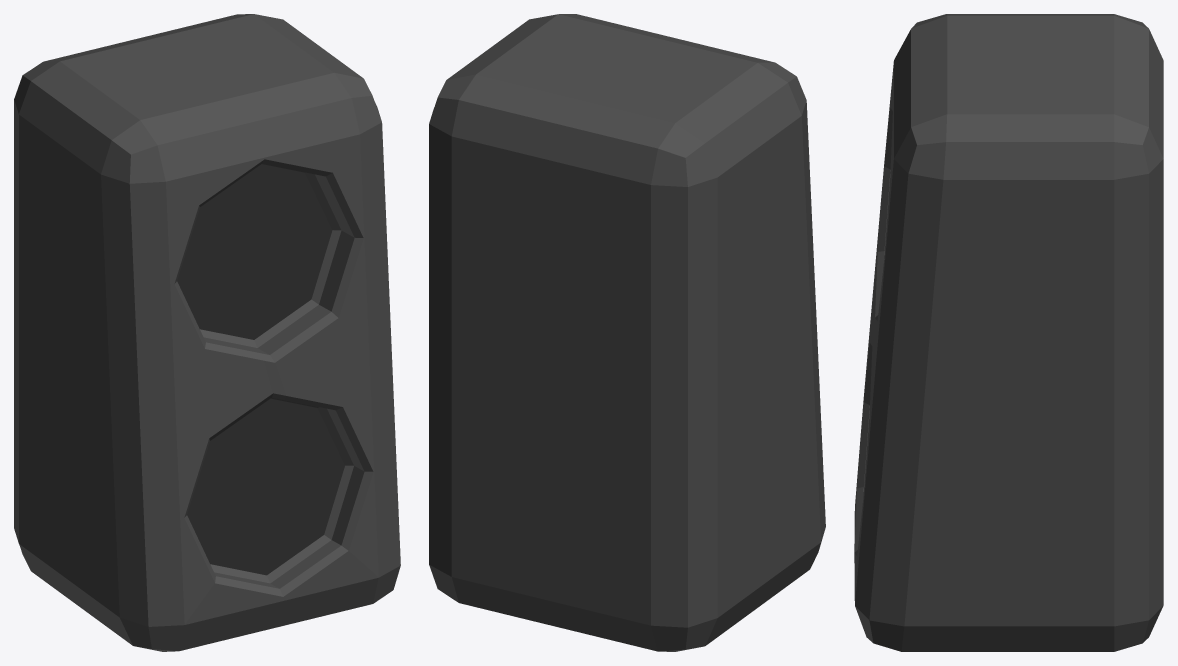
The model's file is Speakers.fbx.
The picture shows the model from 3 angles, left to right: view 1: azimuth 30°, elevation 25°; view 2: azimuth 150°, elevation 25°; view 3: azimuth 270°, elevation 25°; orthographic projection. The views are drawn at different scales.
Parts seen in each view (by area): view 1: Speakers; view 2: Speakers; view 3: Speakers.
Boxes of the visible parts, x1=… form: Speakers: x1=14, y1=14, x2=400, y2=651; Speakers: x1=429, y1=14, x2=825, y2=651; Speakers: x1=854, y1=14, x2=1163, y2=651.
Size of the model in its own units: 0.1906 by 0.3396 by 0.1775.
1 material, 1 textured.
